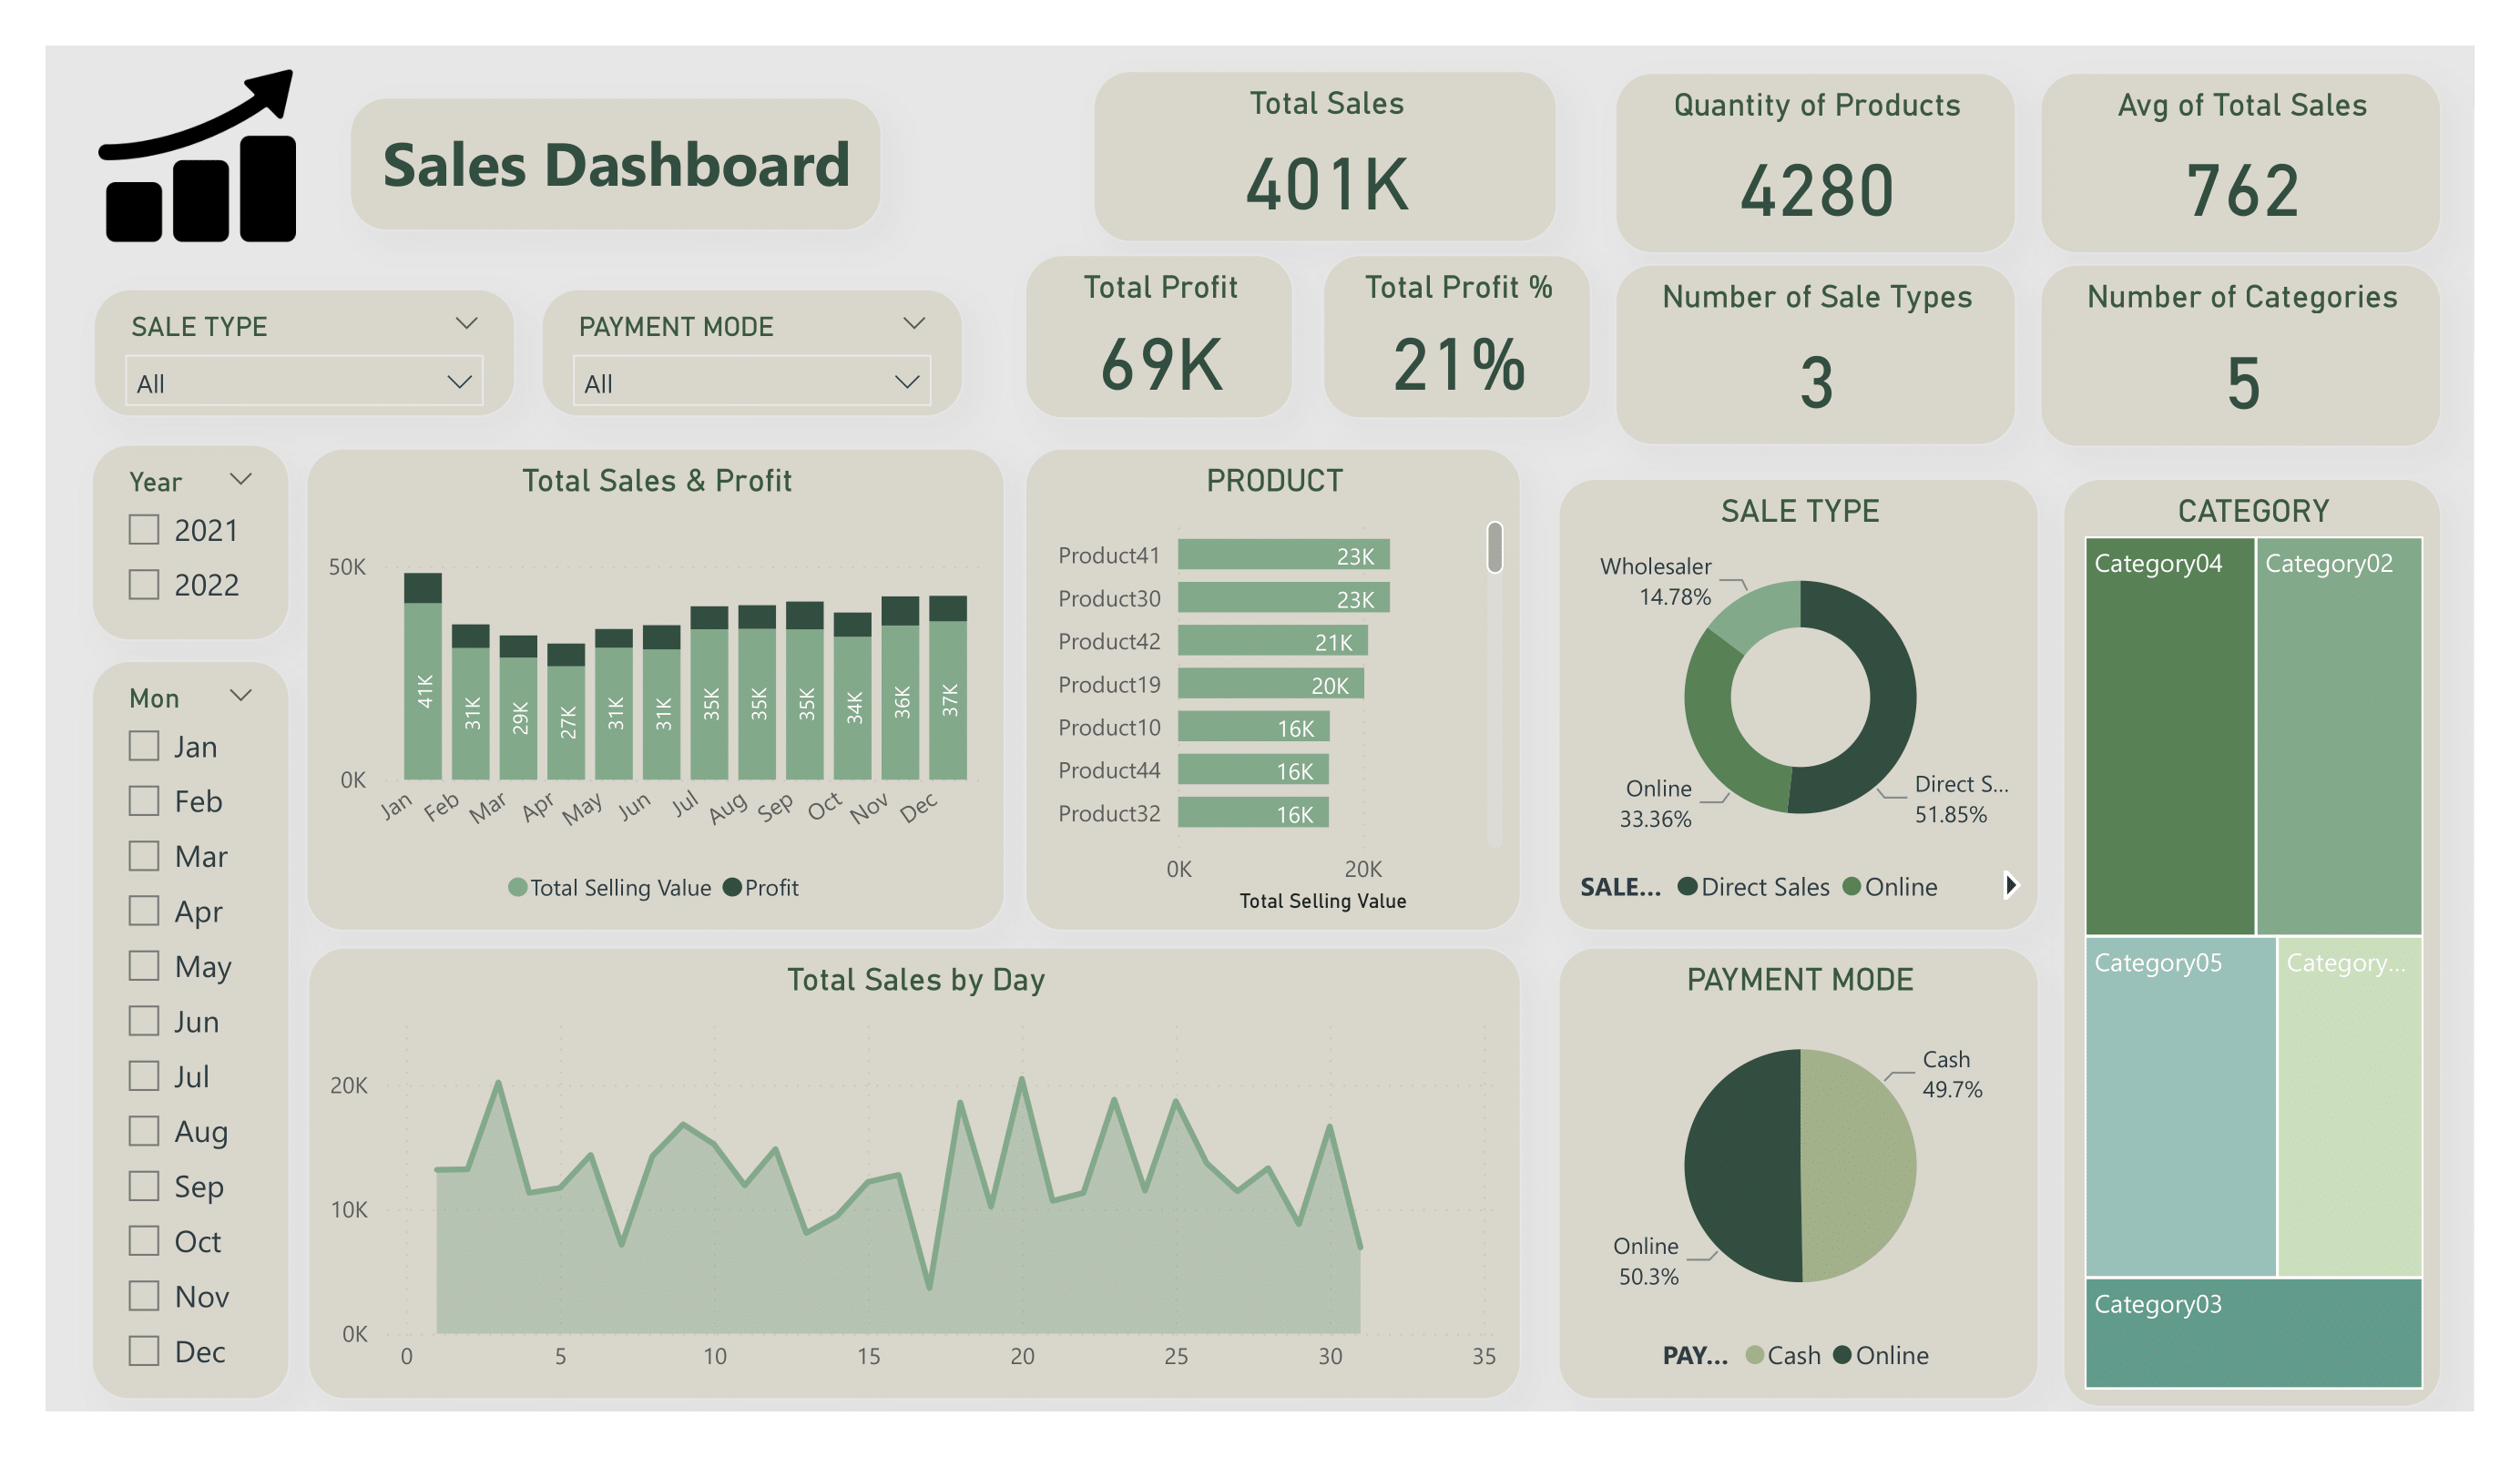

What the dashboard file says about the page in this screenshot:
{"tool":"powerbi","page":{"name":"Sales","canvas":[1280,720],"ordinal":0},"visuals":[{"type":"slicer","fields":{"Values":["InputData.Year"]},"box":[24.4,210.4,104.5,103.2],"z":0},{"type":"slicer","fields":{"Values":["InputData.SALE TYPE"]},"box":[24.7,127.6,223.7,68.6],"z":1000},{"type":"slicer","fields":{"Values":["InputData.PAYMENT MODE"]},"box":[260.7,127.6,223.7,68.6],"z":2000},{"type":"slicer","fields":{"Values":["InputData.Month Name"]},"box":[24.4,324.5,104.5,389.6],"z":3000},{"type":"card","title":"Total Sales","fields":{"Values":["Sum(InputData.Total Selling Value)"]},"box":[552.4,13.3,244.8,90.5],"z":4000},{"type":"card","title":"Avg of Total Sales","fields":{"Values":["Avg(InputData.Total Selling Value)"]},"box":[1050.8,13.6,211.8,96.4],"z":5000},{"type":"card","title":"Total Profit","fields":{"Values":["InputData.Profit"]},"box":[516.2,109.7,142.3,86.8],"z":6000},{"type":"card","title":"Total Profit %","fields":{"Values":["InputData.Profit %"]},"box":[673,109.7,142.3,86.8],"z":7000},{"type":"card","title":"Quantity of Products","fields":{"Values":["Sum(InputData.QUANTITY)"]},"box":[827.4,13.7,211.3,96.1],"z":8000},{"type":"card","title":"Number of Categories","fields":{"Values":["Count(InputData.MasterData.CATEGORY)"]},"box":[1050.8,115.4,211.8,96.4],"z":9000},{"type":"card","title":"Number of Sale Types","fields":{"Values":["Count(InputData.SALE TYPE)"]},"box":[827.4,115.3,211.3,96.1],"z":10000},{"type":"columnChart","title":"Total Sales & Profit","fields":{"Y":["Sum(InputData.Total Selling Value)","InputData.Profit"],"Category":["InputData.Month Name"]},"box":[137.1,211.8,369.3,255.2],"z":11000},{"type":"clusteredBarChart","title":"PRODUCT","fields":{"Y":["Sum(InputData.Total Selling Value)"],"Category":["InputData.MasterData.PRODUCT"]},"box":[515.9,211.8,262,255.2],"z":12000},{"type":"areaChart","title":"Total Sales by Day","fields":{"Category":["InputData.Day"],"Y":["Sum(InputData.Total Selling Value)"]},"box":[138.5,475.2,639.5,238.9],"z":13000},{"type":"donutChart","title":"SALE TYPE","fields":{"Y":["Sum(InputData.Total Selling Value)"],"Category":["InputData.SALE TYPE","InputData.QUANTITY"]},"box":[797.1,227.9,253.9,238.9],"z":14000},{"type":"pieChart","title":"PAYMENT MODE","fields":{"Y":["Sum(InputData.Total Selling Value)"],"Series":["InputData.PAYMENT MODE"]},"box":[796.9,475.2,253.9,238.9],"z":15000},{"type":"treemap","title":"CATEGORY","fields":{"Group":["InputData.MasterData.CATEGORY"],"Values":["Sum(InputData.Total Selling Value)"]},"box":[1063,228.1,199.6,490.1],"z":16000},{"type":"textbox","box":[160.2,27.2,281,70.6],"z":17000},{"type":"image","box":[0,1.4,160.2,114],"z":18000}]}

Visuals, with their boxes on the page's 1280x720 design canvas (x1, y1, x2, y2). These are canvas units, not pixel positions in the 2520x1457 screenshot, which may show the page scaled, cropped or inside an application window:
slicer - InputData.Year: {"left": 24, "top": 210, "right": 129, "bottom": 314}
slicer - InputData.SALE TYPE: {"left": 25, "top": 128, "right": 248, "bottom": 196}
slicer - InputData.PAYMENT MODE: {"left": 261, "top": 128, "right": 484, "bottom": 196}
slicer - InputData.Month Name: {"left": 24, "top": 324, "right": 129, "bottom": 714}
"Total Sales" card: {"left": 552, "top": 13, "right": 797, "bottom": 104}
"Avg of Total Sales" card: {"left": 1051, "top": 14, "right": 1263, "bottom": 110}
"Total Profit" card: {"left": 516, "top": 110, "right": 658, "bottom": 196}
"Total Profit %" card: {"left": 673, "top": 110, "right": 815, "bottom": 196}
"Quantity of Products" card: {"left": 827, "top": 14, "right": 1039, "bottom": 110}
"Number of Categories" card: {"left": 1051, "top": 115, "right": 1263, "bottom": 212}
"Number of Sale Types" card: {"left": 827, "top": 115, "right": 1039, "bottom": 211}
"Total Sales & Profit" columnChart: {"left": 137, "top": 212, "right": 506, "bottom": 467}
"PRODUCT" clusteredBarChart: {"left": 516, "top": 212, "right": 778, "bottom": 467}
"Total Sales by Day" areaChart: {"left": 138, "top": 475, "right": 778, "bottom": 714}
"SALE TYPE" donutChart: {"left": 797, "top": 228, "right": 1051, "bottom": 467}
"PAYMENT MODE" pieChart: {"left": 797, "top": 475, "right": 1051, "bottom": 714}
"CATEGORY" treemap: {"left": 1063, "top": 228, "right": 1263, "bottom": 718}
textbox: {"left": 160, "top": 27, "right": 441, "bottom": 98}
image: {"left": 0, "top": 1, "right": 160, "bottom": 115}
